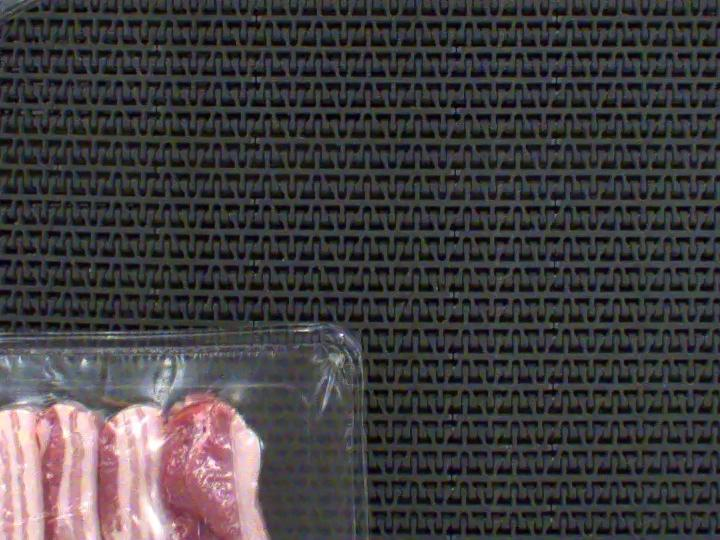unsealed: (0, 348, 358, 540)
